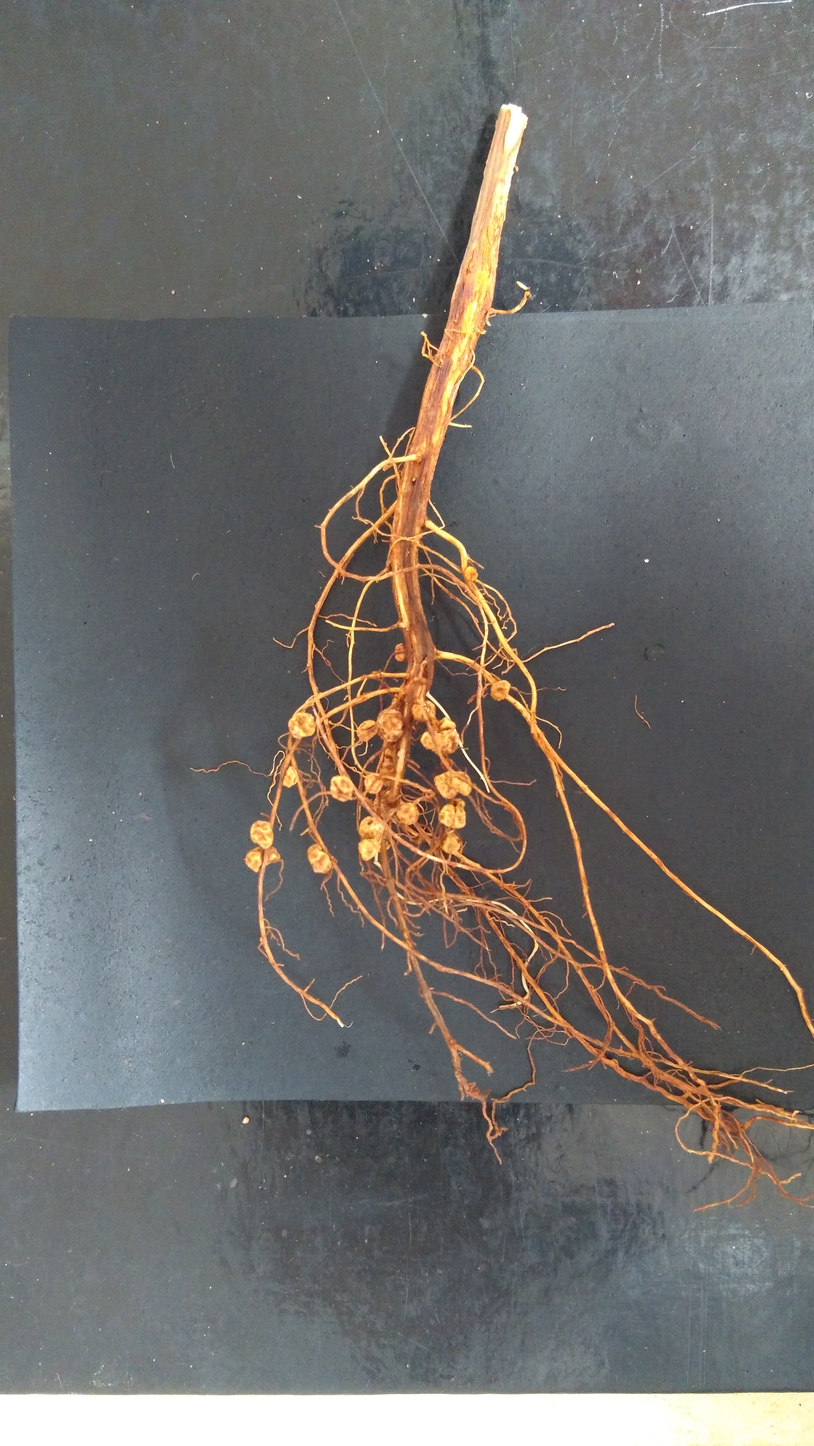nodule: (418, 716, 462, 757), (432, 769, 475, 800), (374, 706, 406, 745), (437, 797, 469, 830), (306, 842, 334, 876), (287, 711, 317, 741), (248, 819, 276, 849), (328, 774, 355, 804), (376, 747, 396, 785), (357, 814, 384, 840), (356, 836, 382, 862), (396, 800, 421, 827), (355, 718, 380, 744), (410, 699, 437, 723), (362, 772, 385, 797), (244, 844, 263, 873), (440, 831, 462, 856), (489, 679, 511, 702), (281, 764, 300, 790), (393, 642, 409, 663), (266, 844, 282, 864), (462, 565, 479, 583)
